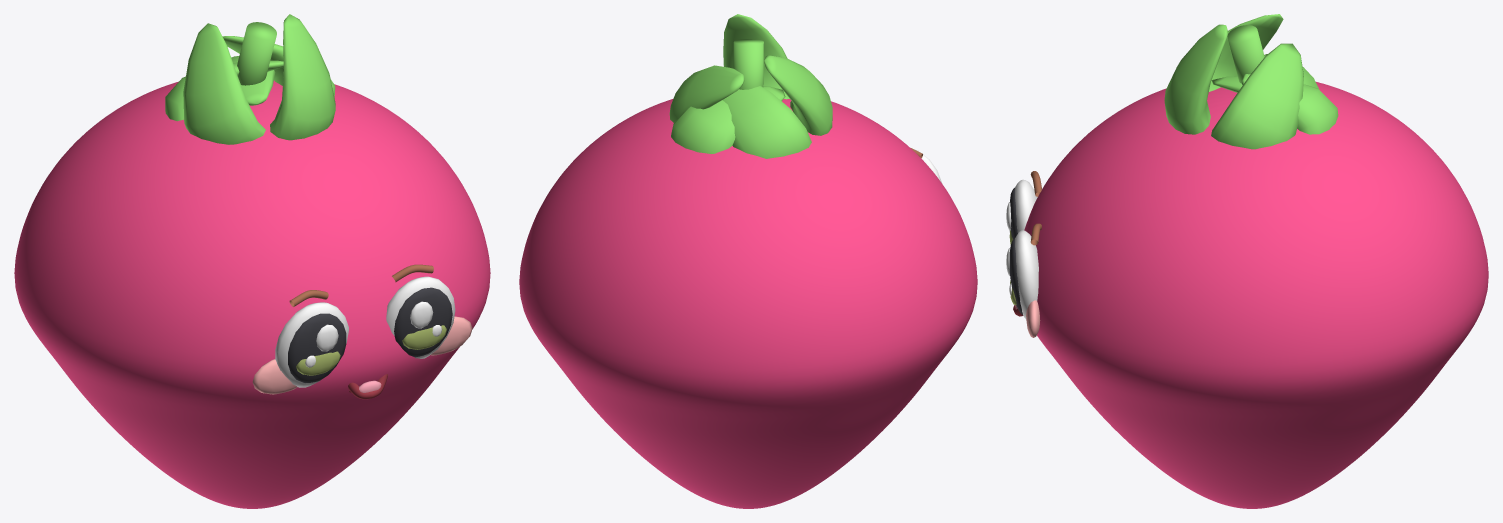
File: strawberry.glb
3 renders of one model, left to right at view 1: azimuth 30°, elevation 25°; view 2: azimuth 150°, elevation 25°; view 3: azimuth 270°, elevation 25°, orthographic. The views are drawn at different scales.
Visible parts, largest first — view 1: Fruit_Strawberry; view 2: Fruit_Strawberry; view 3: Fruit_Strawberry.
Boxes of the visible parts, box(x1,y1,x2,y2) form: Fruit_Strawberry: box(14, 14, 490, 508); Fruit_Strawberry: box(519, 14, 977, 508); Fruit_Strawberry: box(1006, 14, 1488, 508).
Bounding box in the file's own units: 0.8541 × 0.9724 × 0.8713.
